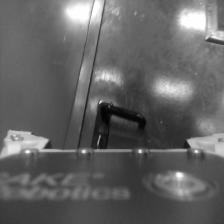Door Handle: (100, 104, 147, 130)
Lock: (95, 134, 103, 148)
